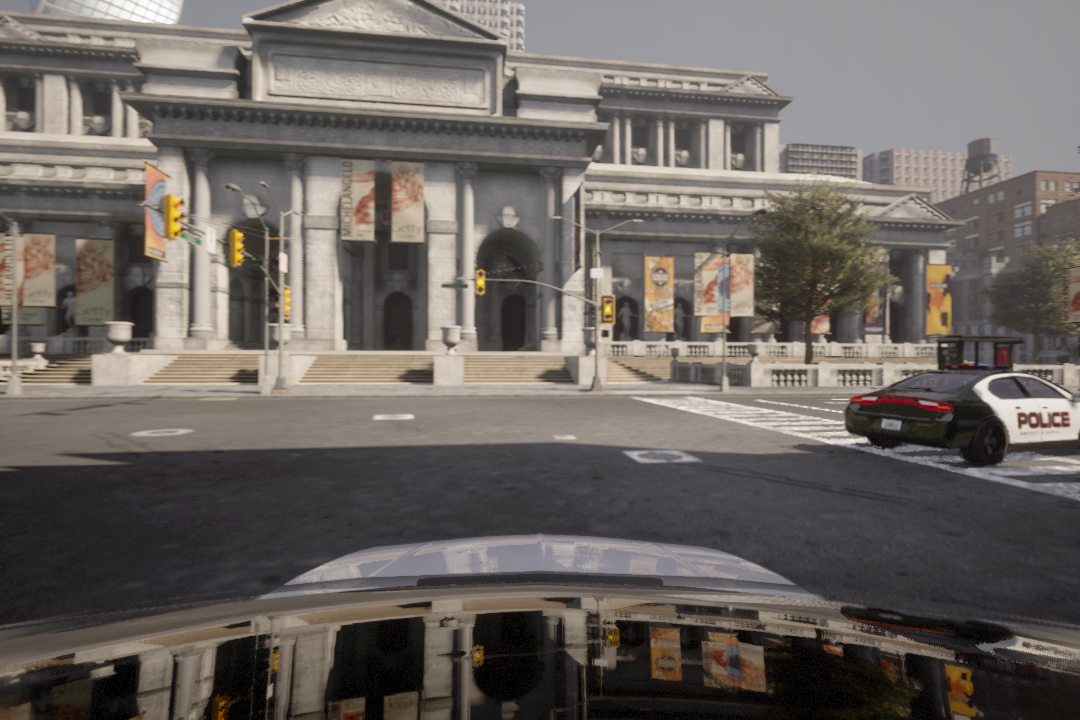TrafficLight: (225, 228, 247, 273), (163, 191, 181, 237), (599, 295, 615, 325), (474, 269, 485, 295)
walkside: (627, 395, 1080, 510)
